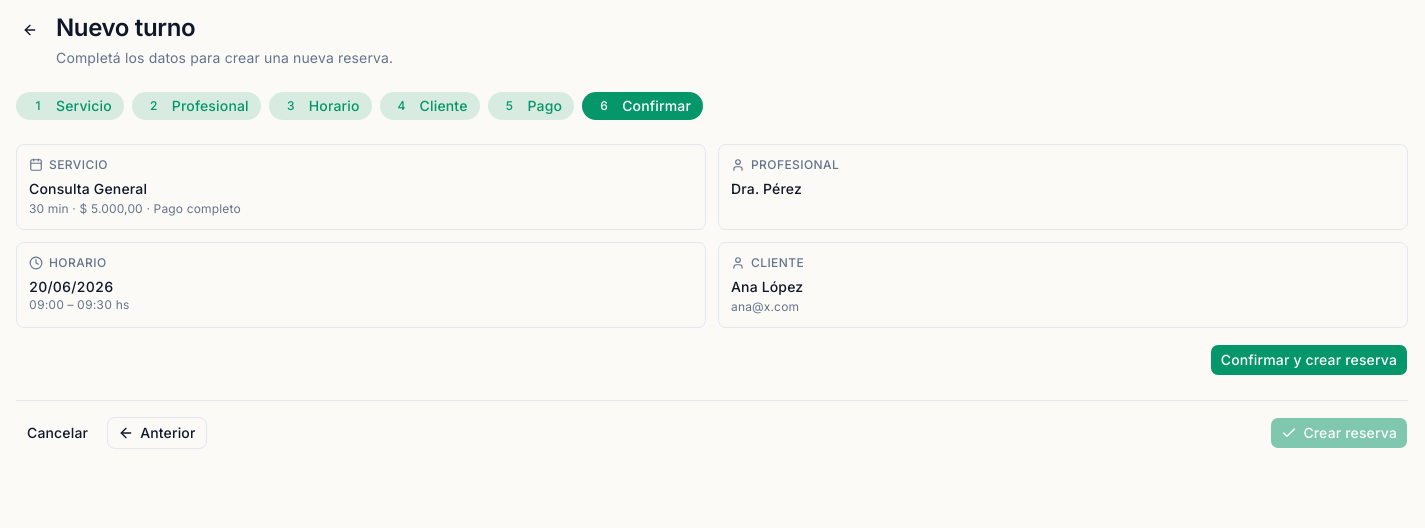
Test: NewBookingPage › shows the error message from createBooking on failure (step 6)
Step 1. Click the button "Confirmar y crear reserva" → [1309, 360], box [1210, 344, 1408, 376]
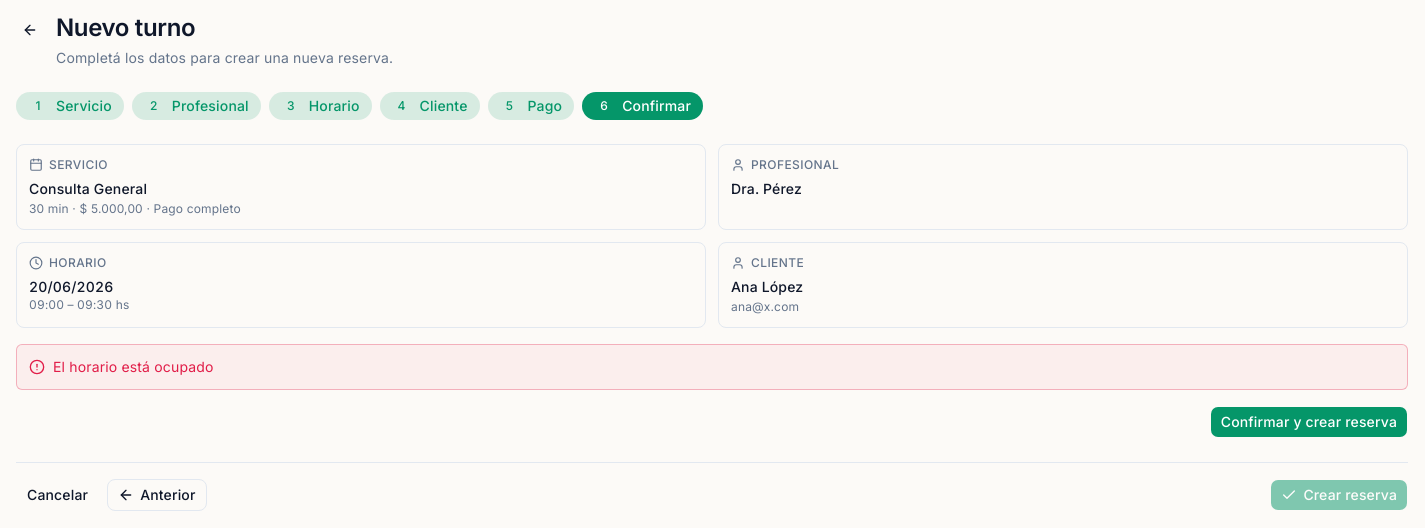
Expected: the text "El horario está ocupado" is shown, [53, 357, 214, 377]
